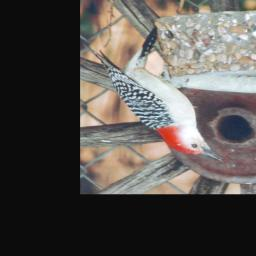Woodpecker: (82, 22, 228, 161)
